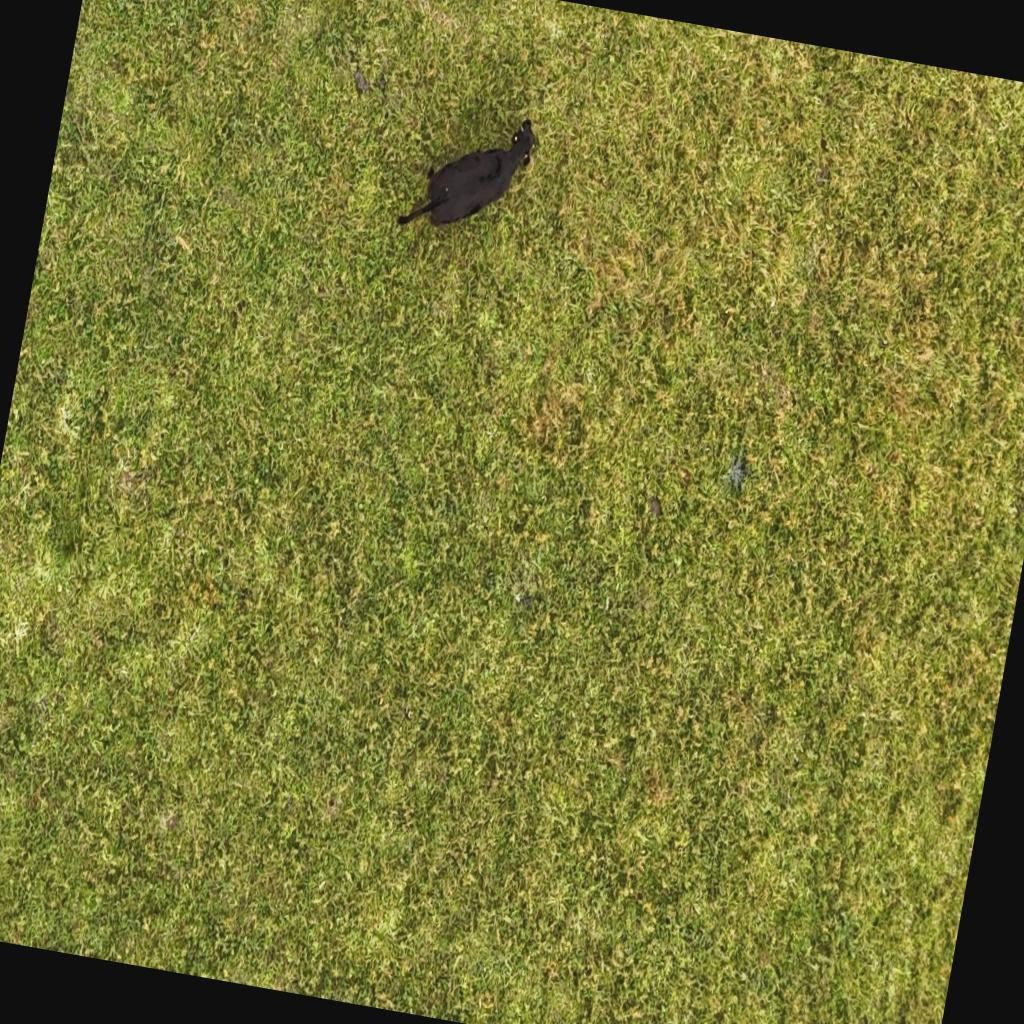cow: (394, 94, 546, 250)
